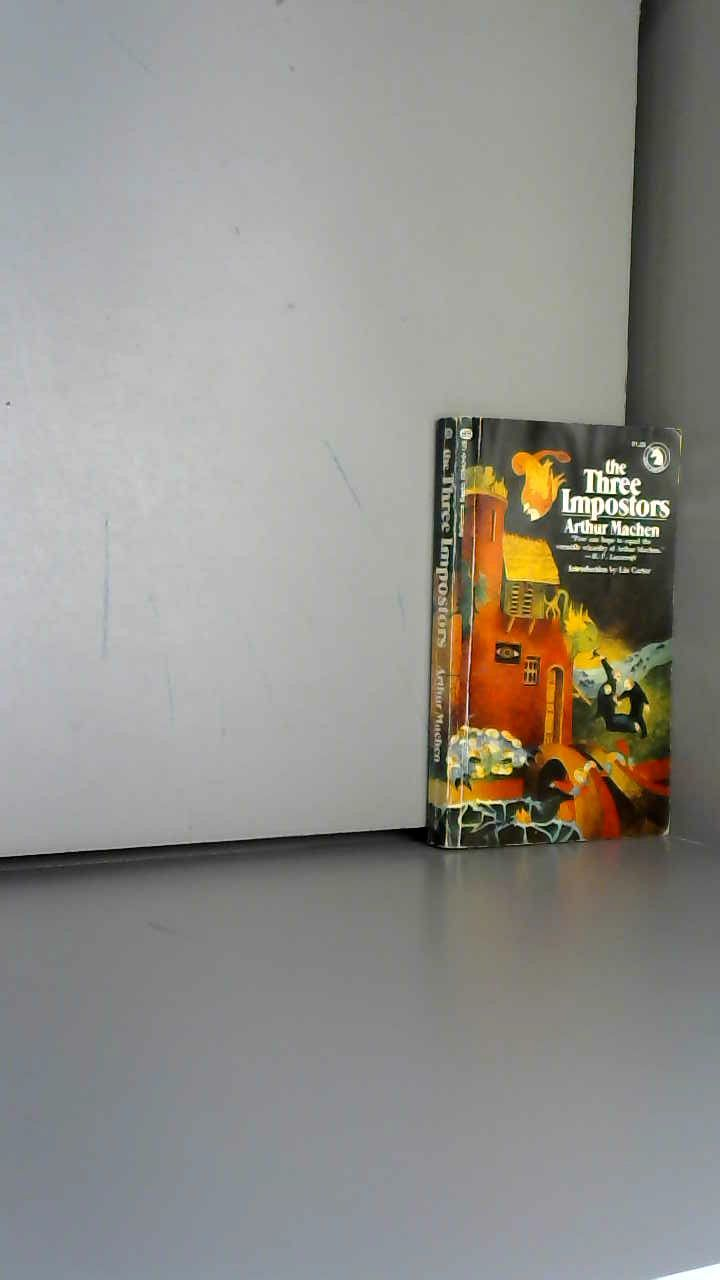book: (400, 390, 720, 870)
